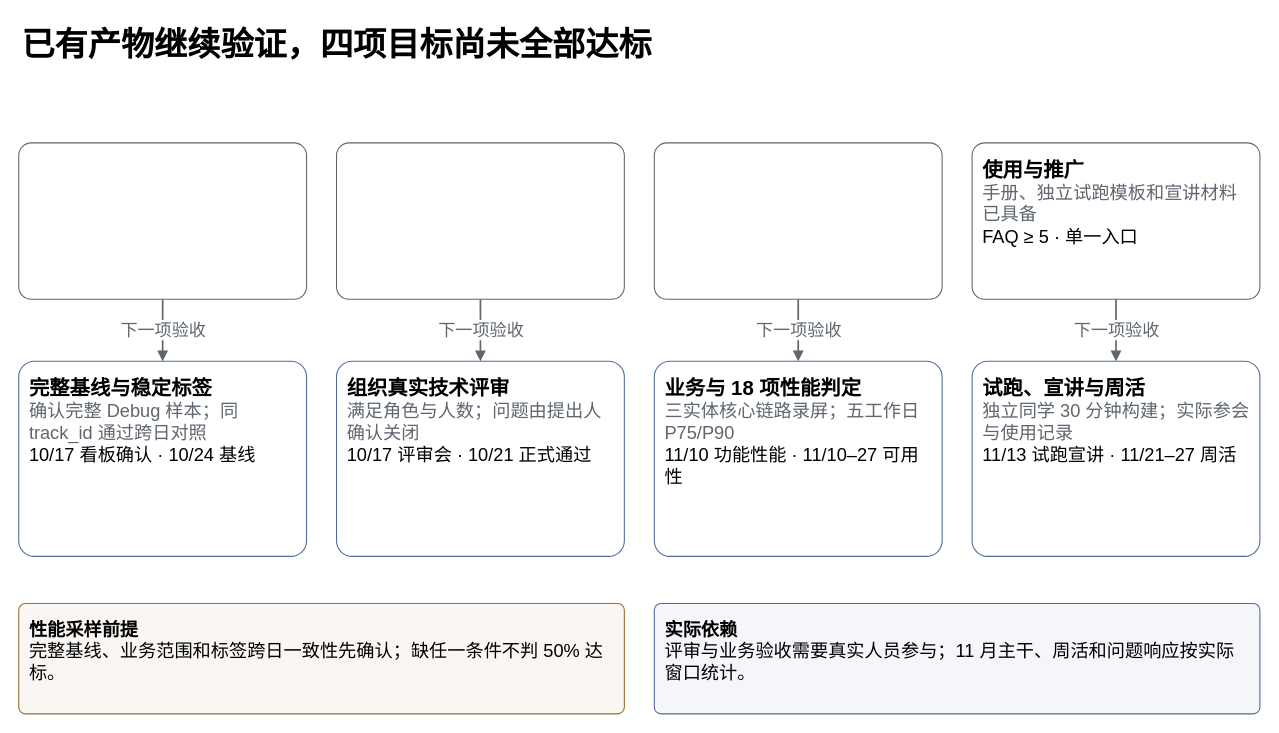
The diagram is 1279 pixels wide and 733 high, and some of its shapes have lost their labels. Here are the shapes that lost their labels. From the top down, the box of each, then its label:
(18, 142, 307, 299): 指标与基线 10 张正式图可查询；七日参考报告已具备 日／周分位 · 部门过滤
(335, 142, 624, 299): 架构与裁剪 三 Profile、插件保护及 98 个声明 Pod 清单 总方案 · 机制图
(653, 142, 942, 299): 开发与功能 三实体本轮构建通过；真机业务仍待验收 3 份新 App · 待真机连接
